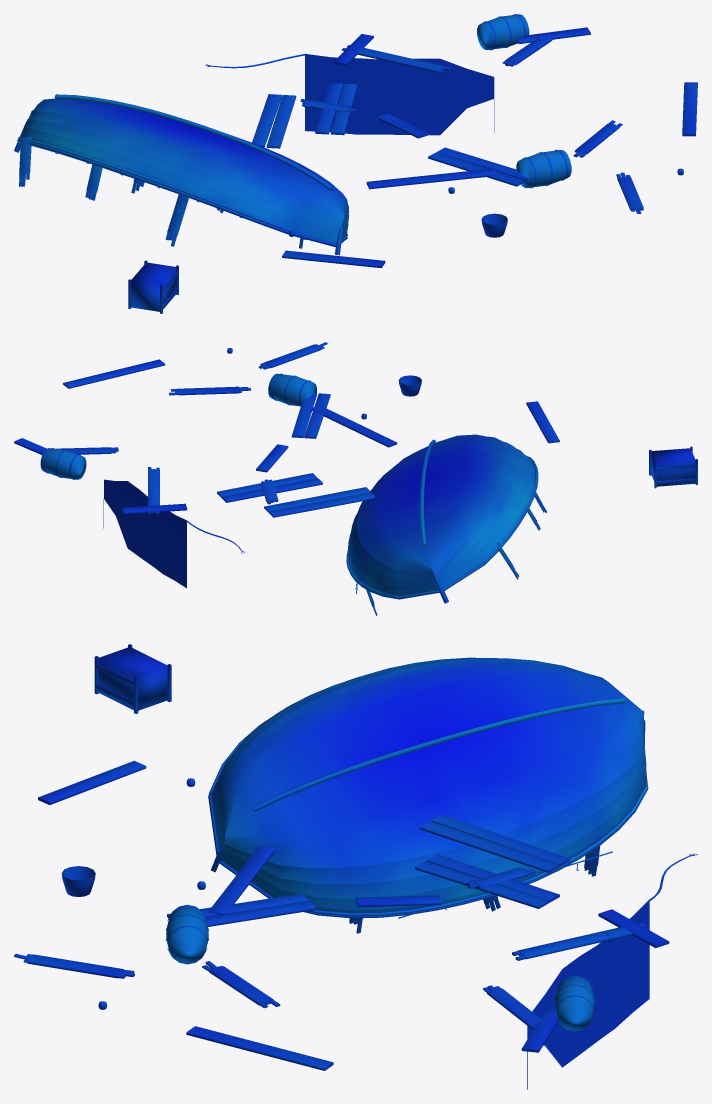
Rendered from storm_debris.glb.
3 views of the same model, one above another, from view 1: azimuth 30°, elevation 25°; view 2: azimuth 150°, elevation 25°; view 3: azimuth 270°, elevation 25° (orthographic). The views are drawn at different scales.
Parts seen in each view (by area): view 1: storm_debris; view 2: storm_debris; view 3: storm_debris.
Boxes of the visible parts, x1,y1,x2,y2 form: storm_debris: (14, 14, 697, 313); storm_debris: (14, 342, 697, 615); storm_debris: (14, 644, 697, 1089).
Size of what is drawn, in the model's own units: 14.12 by 2.84 by 10.06.
